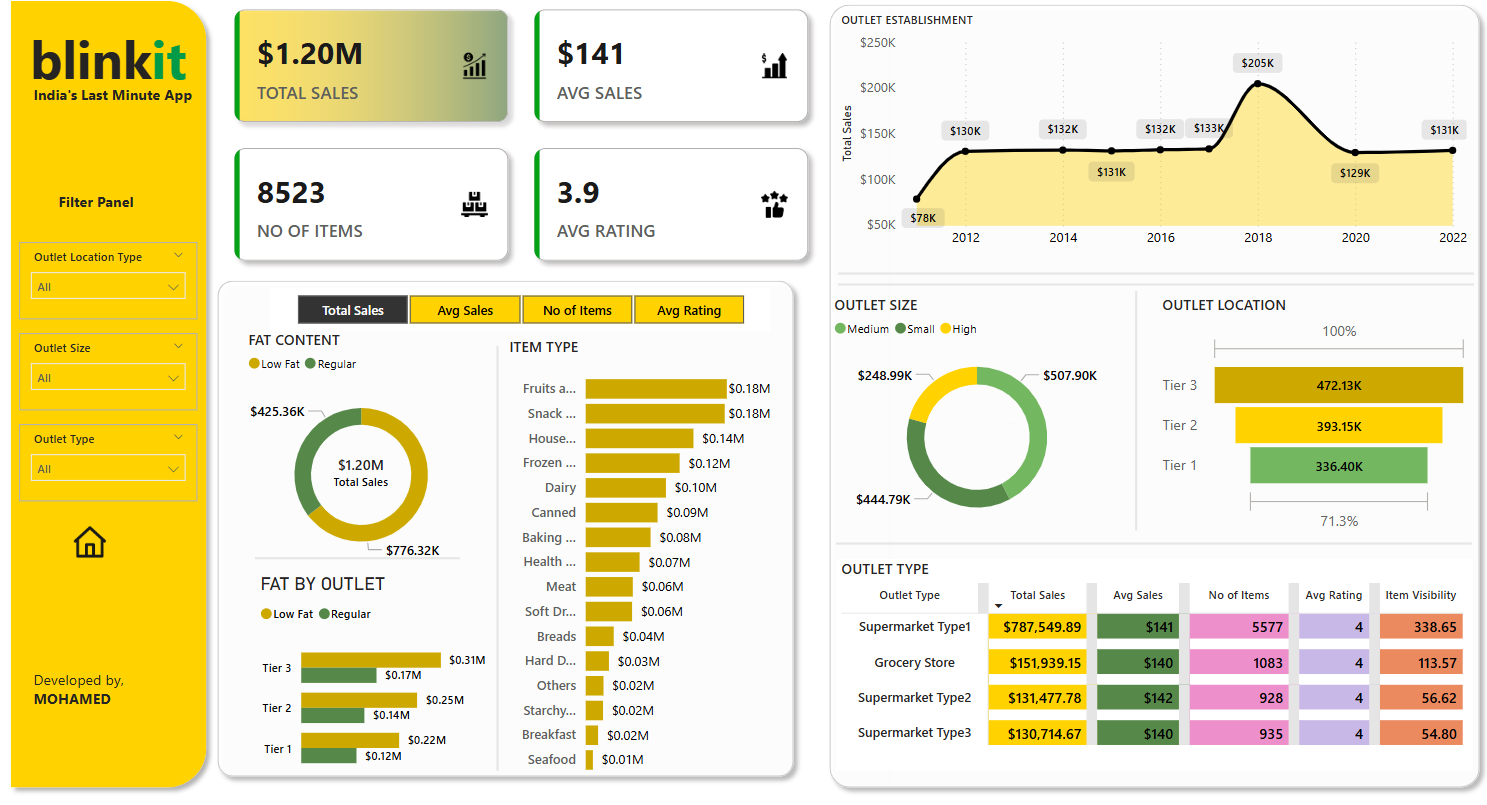

The dashboard page shown, as its layout file describes it:
{"tool":"powerbi","page":{"name":"Page 1","canvas":[1400,800],"ordinal":0},"visuals":[{"type":"shape","box":[15.8,40.9,200,750],"z":0},{"type":"textbox","box":[266,40.6,150.9,50],"z":1000},{"type":"textbox","box":[33,66,166,74.5],"z":2000},{"type":"textbox","box":[40.6,123.6,167.9,34],"z":3000},{"type":"cardVisual","fields":{"Data":["BlinkIT Grocery Data.Total Sales","BlinkIT Grocery Data.Average Sales","BlinkIT Grocery Data.No of Items","BlinkIT Grocery Data.Avg Rating"]},"box":[216,40.6,569.8,269.8],"z":4000},{"type":"shape","box":[208.5,300.9,553.8,479.2],"z":5000},{"type":"slicer","fields":{"Values":["Metrics.Metrics"]},"box":[266,317,465.1,39.6],"z":6000},{"type":"donutChart","title":"FAT CONTENT","fields":{"Y":["BlinkIT Grocery Data.Total Sales"],"Category":["BlinkIT Grocery Data.Item Fat Content"]},"box":[240.6,356.6,219.8,230.2],"z":7000},{"type":"cardVisual","fields":{"Data":["BlinkIT Grocery Data.Total Sales"]},"box":[305.7,455.7,89.6,60.4],"z":8000},{"type":"clusteredBarChart","title":"FAT BY OUTLET","fields":{"Y":["BlinkIT Grocery Data.Total Sales"],"Category":["BlinkIT Grocery Data.Outlet Location Type"],"Series":["BlinkIT Grocery Data.Item Fat Content"]},"box":[251.9,582.1,219.8,198.1],"z":9000},{"type":"shape","box":[251.9,555.7,190.6,26.4],"z":10000},{"type":"shape","box":[471.7,370.8,12.3,395.3],"z":11000},{"type":"barChart","title":"ITEM TYPE","fields":{"Y":["BlinkIT Grocery Data.Total Sales"],"Category":["BlinkIT Grocery Data.Item Type"]},"box":[484,363.2,252.8,417],"z":12000},{"type":"shape","box":[950,85.8,12.3,714.2],"z":13000},{"type":"shape","box":[835.8,59.4,12.3,720.8],"z":14000},{"type":"shape","box":[777.4,44.3,622.6,746.2],"z":15000},{"type":"lineChart","title":"OUTLET ESTABLISHMENT","fields":{"Category":["BlinkIT Grocery Data.Outlet Establishment Year"],"Y":["BlinkIT Grocery Data.Total Sales"]},"box":[792.6,59.5,591.6,228.8],"z":16000},{"type":"shape","box":[1061.3,319.8,20.8,222.6],"z":17000},{"type":"donutChart","title":"OUTLET SIZE ","fields":{"Y":["BlinkIT Grocery Data.Total Sales"],"Category":["BlinkIT Grocery Data.Outlet Size"]},"box":[786,323.7,275.3,225.1],"z":18000},{"type":"shape","box":[794.3,298.1,591.5,12.3],"z":19000},{"type":"funnel","title":"OUTLET LOCATION","fields":{"Category":["BlinkIT Grocery Data.Outlet Location Type"],"Y":["Sum(BlinkIT Grocery Data.Sales)"]},"box":[1091.2,323.7,294.9,225.1],"z":20000},{"type":"shape","box":[792.5,549.1,591.5,12.3],"z":21000},{"type":"pivotTable","title":"OUTLET TYPE","fields":{"Values":["BlinkIT Grocery Data.Total Sales","BlinkIT Grocery Data.Avg Sales","BlinkIT Grocery Data.No of Items","BlinkIT Grocery Data.Avg Rating","Sum(BlinkIT Grocery Data.Item Visibility)"],"Rows":["BlinkIT Grocery Data.Outlet Type"]},"box":[792.5,568.9,591.5,197.2],"z":22000},{"type":"slicer","fields":{"Values":["BlinkIT Grocery Data.Outlet Location Type"]},"box":[33,274.5,166,71.7],"z":23000},{"type":"actionButton","box":[0,0,100,40],"z":24000},{"type":"shape","box":[794.4,307.9,591.6,12.1],"z":25000},{"type":"slicer","fields":{"Values":["BlinkIT Grocery Data.Outlet Size"]},"box":[33,359.4,166,71.7],"z":27000},{"type":"slicer","fields":{"Values":["BlinkIT Grocery Data.Outlet Type"]},"box":[33,443.4,166,71.7],"z":28000},{"type":"textbox","box":[64.2,223.6,91.5,32.1],"z":29000},{"type":"image","box":[72.6,526.5,52.1,54.9],"z":30000},{"type":"textbox","box":[40.6,667.9,134,54.7],"z":31000}]}

Visuals, with their boxes on the page's 1400x800 design canvas (x1, y1, x2, y2). These are canvas units, not pixel positions in the 1487x805 screenshot, which may show the page scaled, cropped or inside an application window:
shape: (x1=16, y1=41, x2=216, y2=791)
textbox: (x1=266, y1=41, x2=417, y2=91)
textbox: (x1=33, y1=66, x2=199, y2=140)
textbox: (x1=41, y1=124, x2=208, y2=158)
cardVisual - BlinkIT Grocery Data.Total Sales x BlinkIT Grocery Data.Average Sales: (x1=216, y1=41, x2=786, y2=310)
shape: (x1=208, y1=301, x2=762, y2=780)
slicer - Metrics.Metrics: (x1=266, y1=317, x2=731, y2=357)
"FAT CONTENT" donutChart: (x1=241, y1=357, x2=460, y2=587)
cardVisual - BlinkIT Grocery Data.Total Sales: (x1=306, y1=456, x2=395, y2=516)
"FAT BY OUTLET" clusteredBarChart: (x1=252, y1=582, x2=472, y2=780)
shape: (x1=252, y1=556, x2=442, y2=582)
shape: (x1=472, y1=371, x2=484, y2=766)
"ITEM TYPE" barChart: (x1=484, y1=363, x2=737, y2=780)
shape: (x1=950, y1=86, x2=962, y2=800)
shape: (x1=836, y1=59, x2=848, y2=780)
shape: (x1=777, y1=44, x2=1400, y2=790)
"OUTLET ESTABLISHMENT" lineChart: (x1=793, y1=60, x2=1384, y2=288)
shape: (x1=1061, y1=320, x2=1082, y2=542)
"OUTLET SIZE " donutChart: (x1=786, y1=324, x2=1061, y2=549)
shape: (x1=794, y1=298, x2=1386, y2=310)
"OUTLET LOCATION" funnel: (x1=1091, y1=324, x2=1386, y2=549)
shape: (x1=792, y1=549, x2=1384, y2=561)
"OUTLET TYPE" pivotTable: (x1=792, y1=569, x2=1384, y2=766)
slicer - BlinkIT Grocery Data.Outlet Location Type: (x1=33, y1=274, x2=199, y2=346)
actionButton: (x1=0, y1=0, x2=100, y2=40)
shape: (x1=794, y1=308, x2=1386, y2=320)
slicer - BlinkIT Grocery Data.Outlet Size: (x1=33, y1=359, x2=199, y2=431)
slicer - BlinkIT Grocery Data.Outlet Type: (x1=33, y1=443, x2=199, y2=515)
textbox: (x1=64, y1=224, x2=156, y2=256)
image: (x1=73, y1=526, x2=125, y2=581)
textbox: (x1=41, y1=668, x2=175, y2=723)
